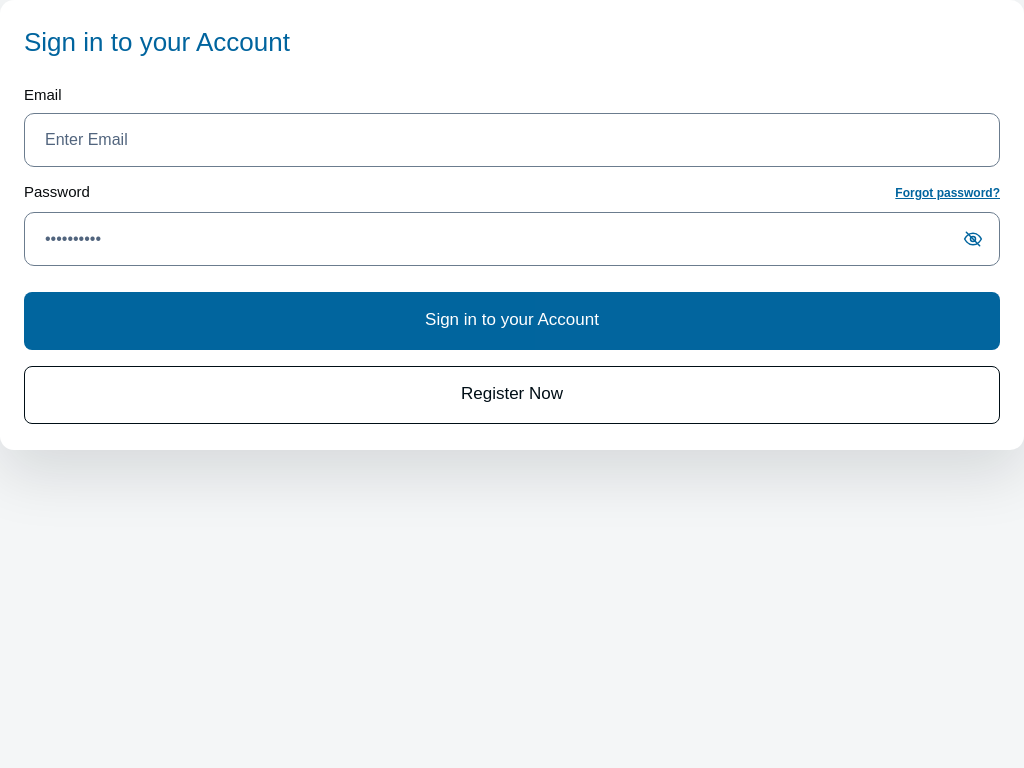
Test: HomeSignIn component › disables sign-in while pending and prevents repeated clicks
Type "borrower@example.com" into the field labelled "Email" at coordinates (512, 140), box [24,113,1000,167]
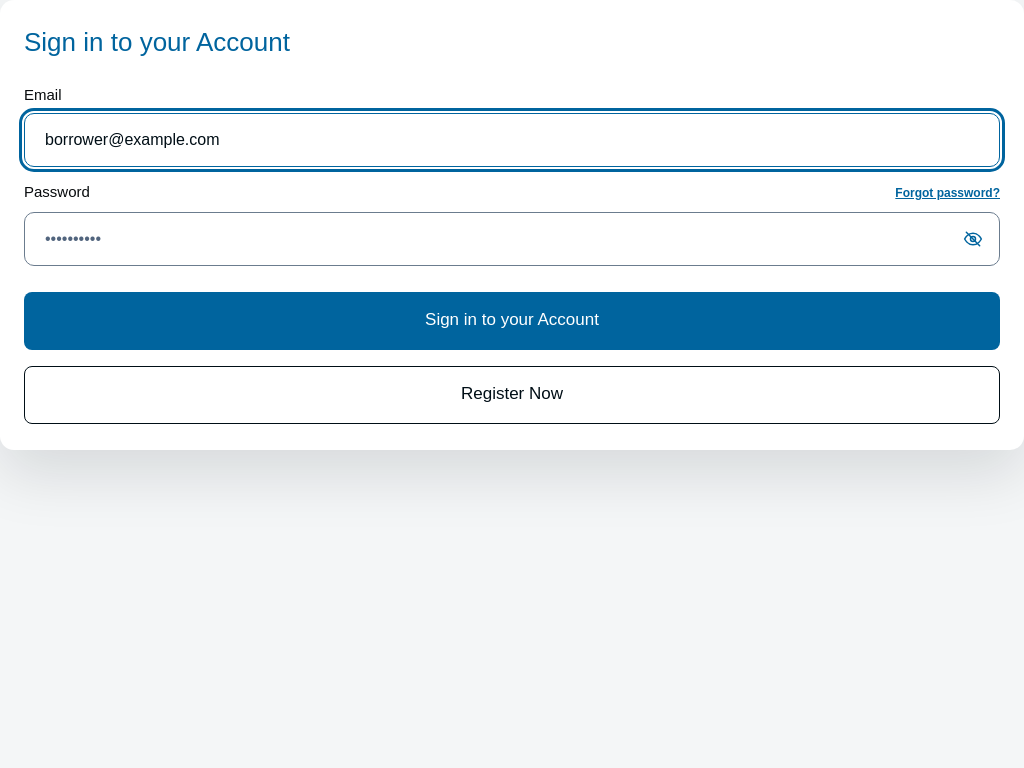
Type "BorrowerPassword123!" into the password field labelled "Password" at coordinates (512, 239), box [24,212,1000,266]
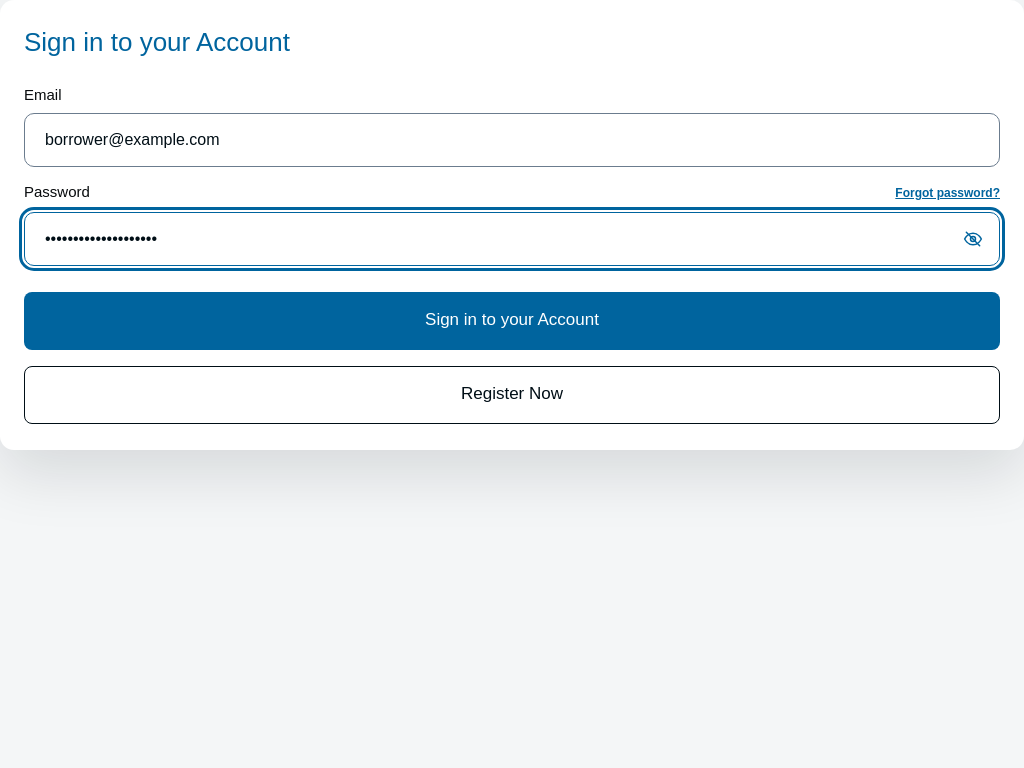
Click the button "Sign in to your Account" at coordinates (512, 321), box [24,292,1000,350]
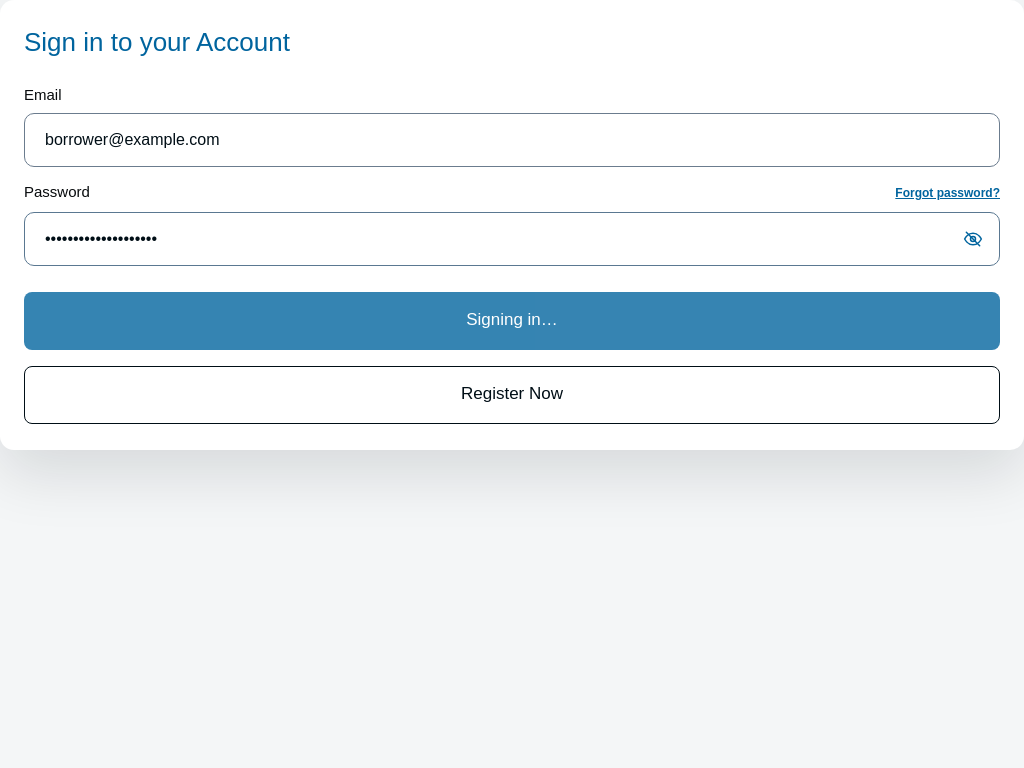
Now the button "Signing in…" is disabled
Click the button "Signing in…" at coordinates (512, 321), box [24,292,1000,350]
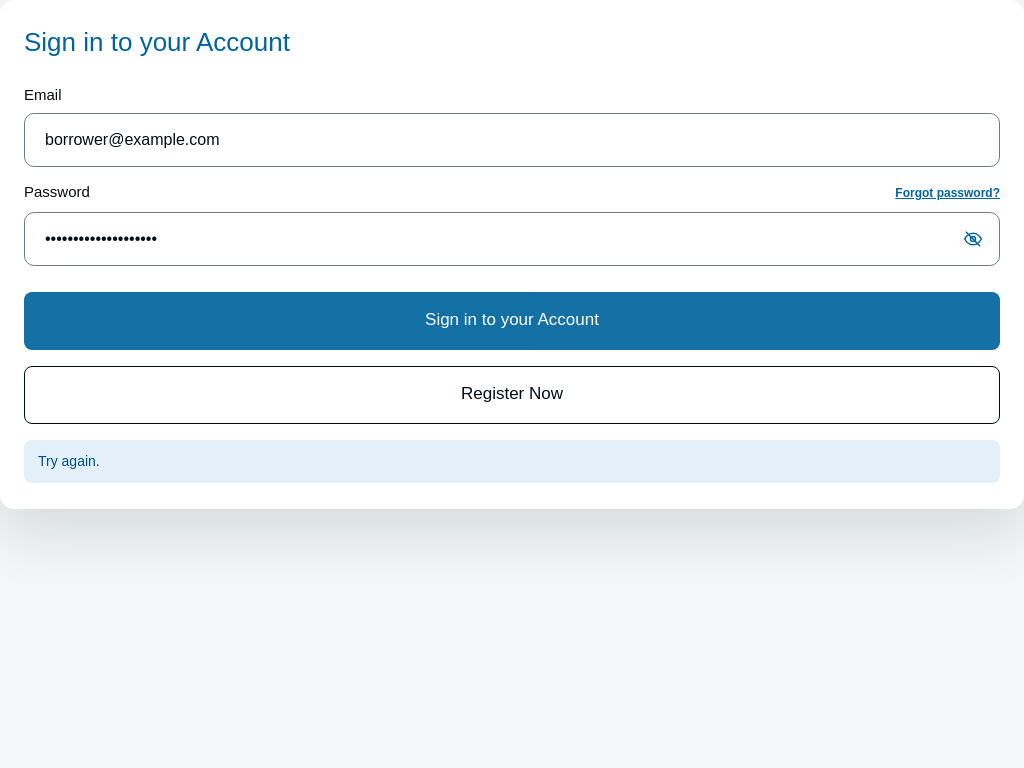
Now the button "Sign in to your Account" is enabled, box [24,292,1000,350]
